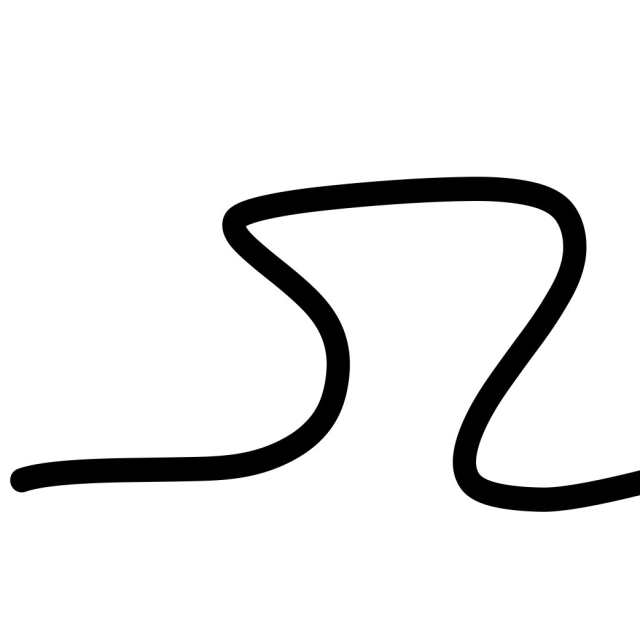ohms: (61, 72, 637, 565)
